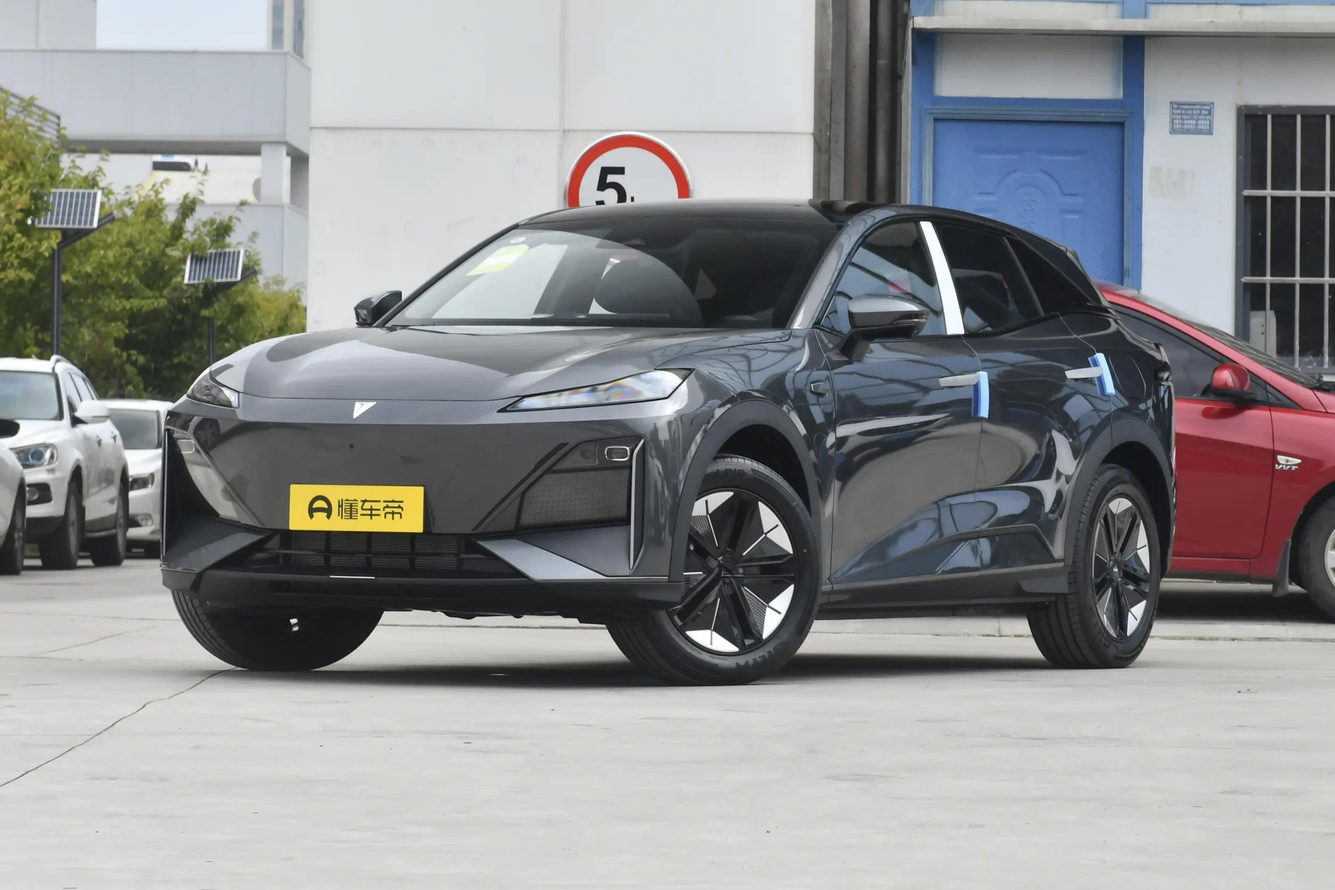Deepal: (353, 402, 376, 418)
